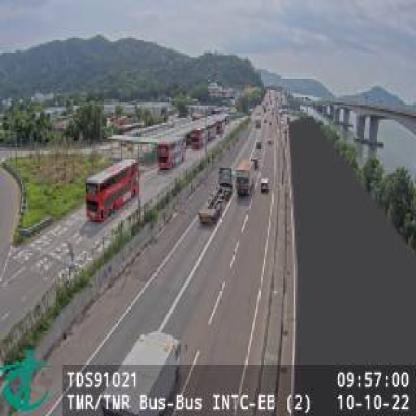Bus: (86, 159, 139, 224), (156, 135, 187, 170), (235, 160, 253, 196)
Car: (258, 176, 270, 193)
Truck: (99, 328, 183, 413), (197, 164, 231, 228)
